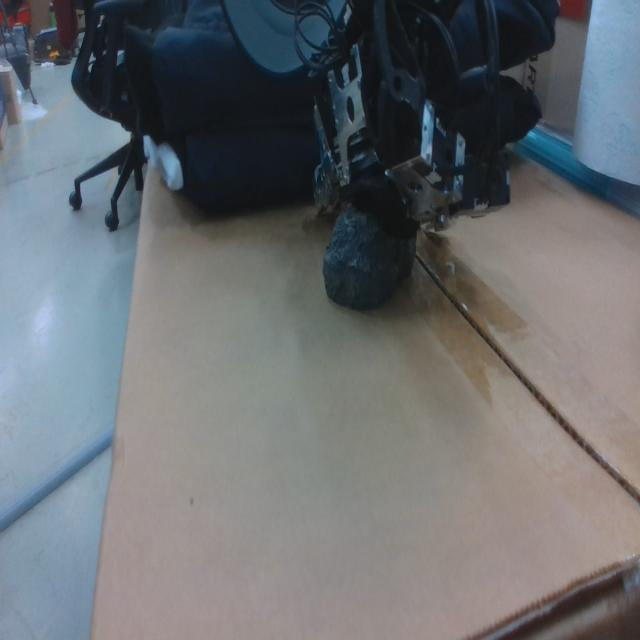stone: (322, 198, 418, 312)
